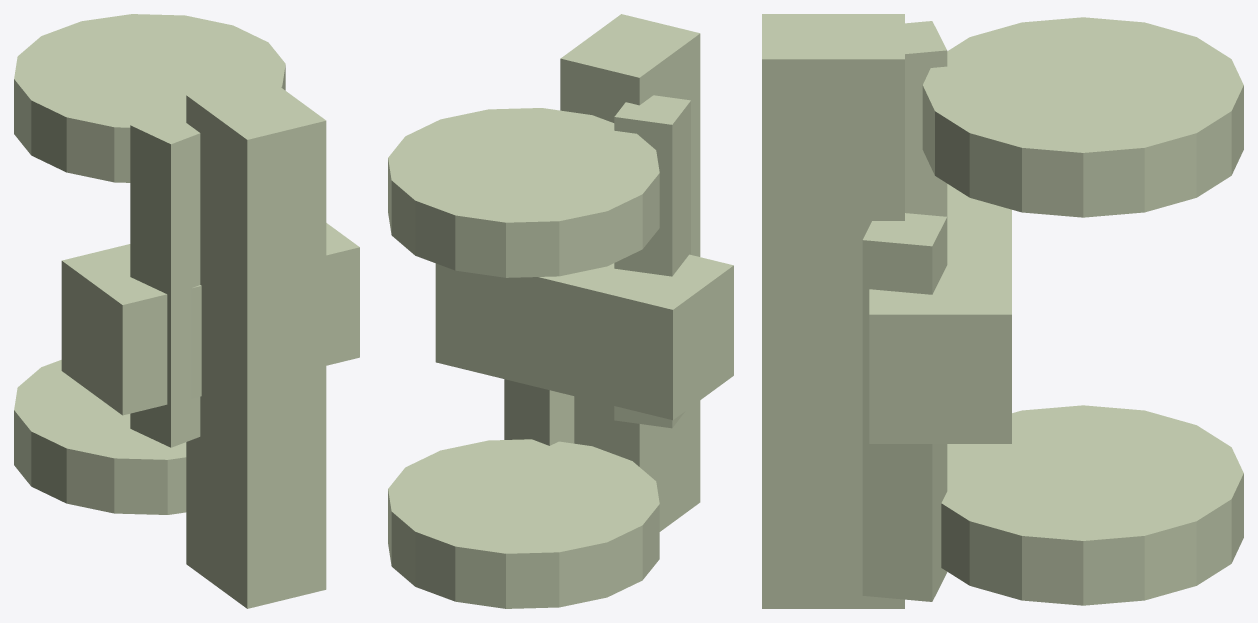
Rendered from furniture_signal_band_clamp.glb.
3 views of the same model, side by side, from view 1: azimuth 30°, elevation 25°; view 2: azimuth 150°, elevation 25°; view 3: azimuth 270°, elevation 25° (orthographic). The views are drawn at different scales.
Visible parts, largest first — view 1: mount_plate, upper_band, standoff_arm, lower_band, brace_left; view 2: lower_band, upper_band, standoff_arm, mount_plate, brace_left, brace_right; view 3: mount_plate, upper_band, lower_band, standoff_arm, brace_right, brace_left.
Boxes of the visible parts, x1,y1,x2,y2 form: mount_plate: [186, 76, 326, 608]; upper_band: [14, 14, 285, 182]; standoff_arm: [61, 223, 359, 415]; lower_band: [14, 360, 186, 514]; brace_left: [130, 108, 200, 447]; lower_band: [388, 439, 659, 608]; upper_band: [388, 108, 659, 277]; standoff_arm: [435, 254, 733, 420]; mount_plate: [560, 14, 700, 531]; brace_left: [614, 95, 690, 428]; brace_right: [504, 379, 574, 445]; mount_plate: [762, 14, 904, 608]; upper_band: [922, 17, 1243, 217]; lower_band: [941, 405, 1243, 605]; standoff_arm: [869, 184, 1011, 443]; brace_right: [862, 213, 947, 601]; brace_left: [905, 21, 947, 216].
Size of the model in its own units: 0.18 by 0.34 by 0.27.
